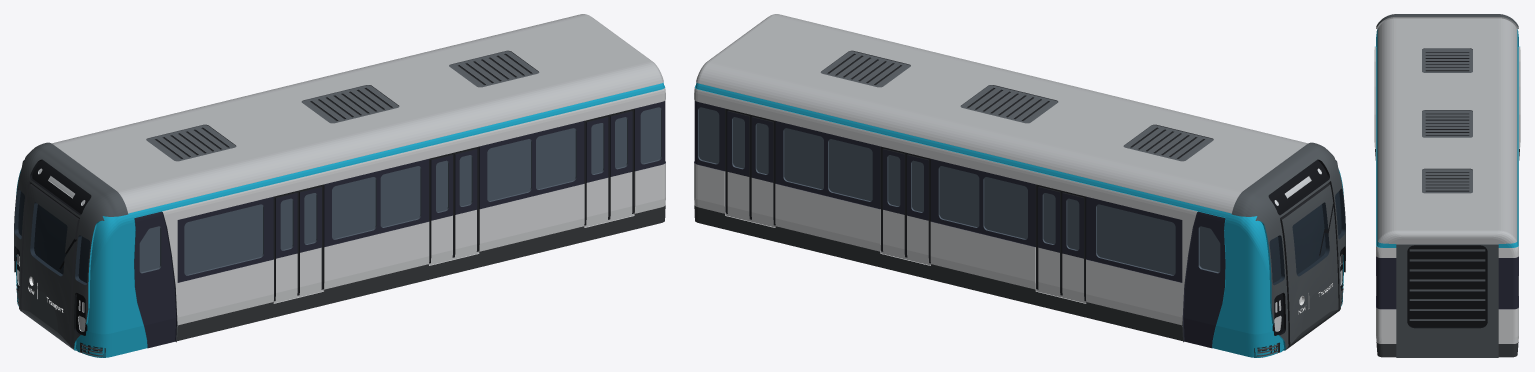
File: sydneymetro.glb
3 renders of one model, left to right at view 1: azimuth 30°, elevation 25°; view 2: azimuth 150°, elevation 25°; view 3: azimuth 270°, elevation 25°, orthographic. The views are drawn at different scales.
Visible parts, largest first — view 1: sydmetro_sydneymetro; view 2: sydmetro_sydneymetro; view 3: sydmetro_sydneymetro.
Part boxes in pixels (x1,y1,x2,y2): sydmetro_sydneymetro: [14, 14, 665, 357]; sydmetro_sydneymetro: [694, 14, 1345, 357]; sydmetro_sydneymetro: [1374, 14, 1520, 357].
Bounding box in the file's own units: 150 × 38 × 40.
